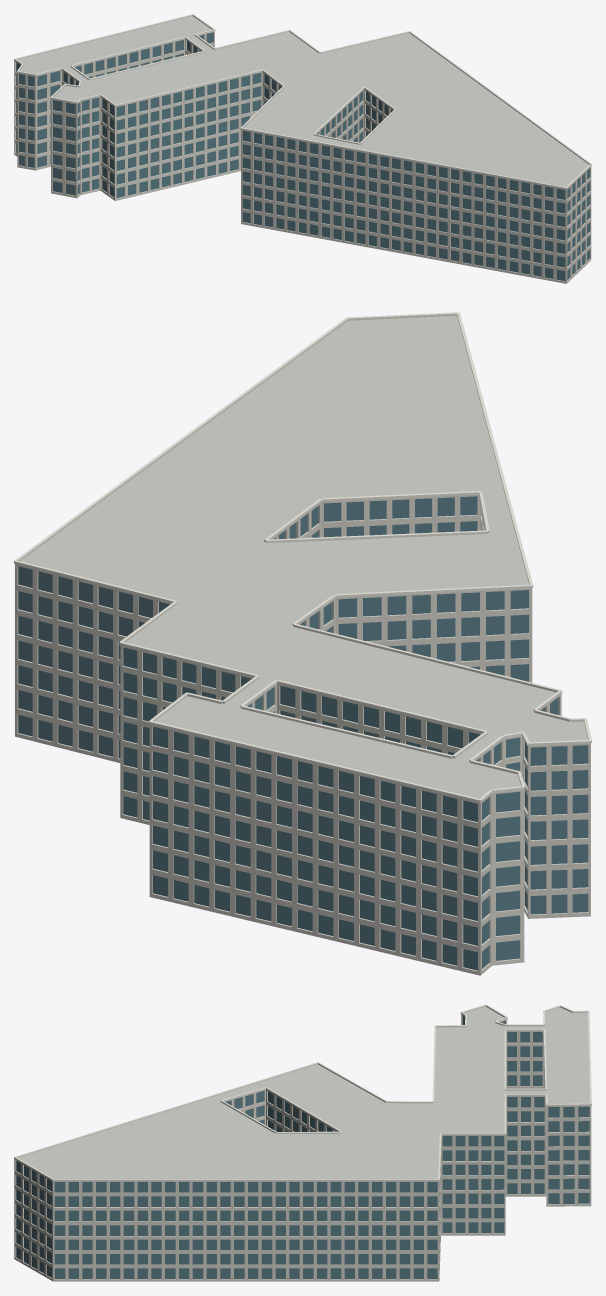
File: likelou.far.glb
3 views of the same model, one above another, from view 1: azimuth 30°, elevation 25°; view 2: azimuth 150°, elevation 25°; view 3: azimuth 270°, elevation 25° (orthographic). The views are drawn at different scales.
Parts seen in each view (by area): view 1: glass, roof, wall, trim; view 2: roof, glass, wall, trim; view 3: roof, glass, wall, trim.
Boxes of the visible parts, bbox=[...] form: glass: bbox=[16, 32, 589, 280]; roof: bbox=[18, 16, 588, 186]; wall: bbox=[14, 31, 591, 283]; trim: bbox=[14, 14, 591, 189]; roof: bbox=[20, 316, 587, 798]; glass: bbox=[18, 496, 588, 970]; wall: bbox=[15, 494, 590, 975]; trim: bbox=[14, 312, 591, 802]; roof: bbox=[18, 1006, 589, 1178]; glass: bbox=[16, 1016, 589, 1278]; wall: bbox=[14, 1014, 591, 1281]; trim: bbox=[14, 1004, 591, 1180].
Size of the model in its own units: 115 by 31.34 by 161.
